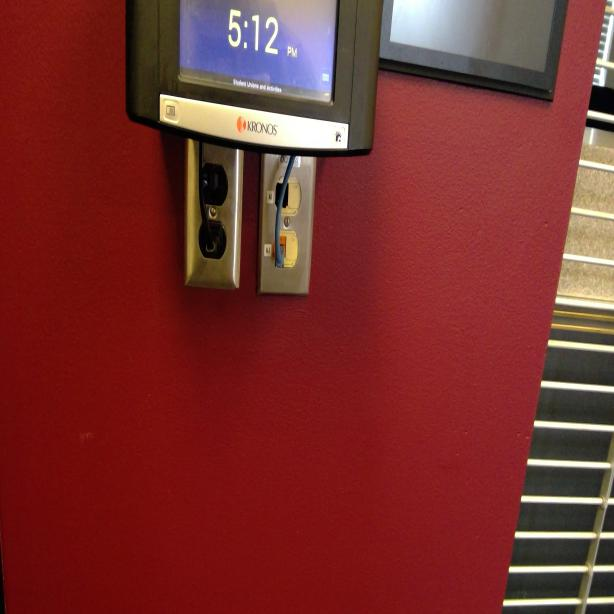typeb: (201, 163, 226, 205)
